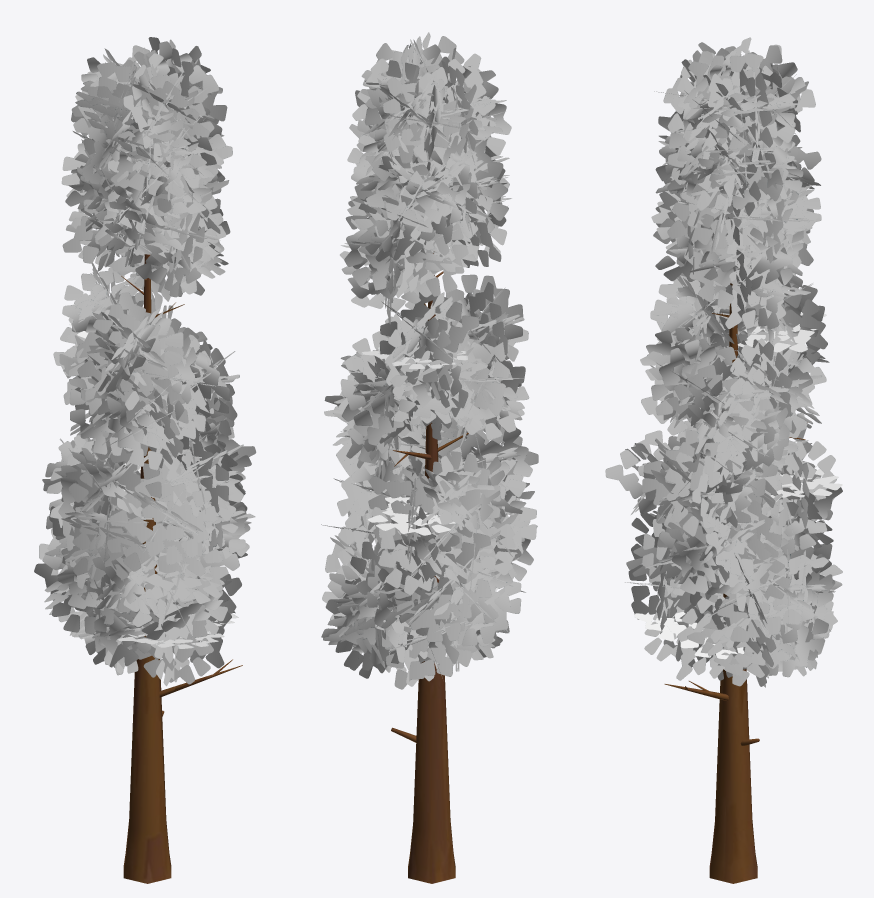
File: STColumnar2.glb
3 views of the same model, side by side, from view 1: azimuth 30°, elevation 25°; view 2: azimuth 150°, elevation 25°; view 3: azimuth 270°, elevation 25° (orthographic).
Visible parts, largest first — view 1: VertTree2Leaves; view 2: VertTree2Leaves; view 3: VertTree2Leaves.
Boxes of the visible parts, left/top/right/bottom form: VertTree2Leaves: left=34, top=37, right=256, bottom=883; VertTree2Leaves: left=321, top=32, right=538, bottom=883; VertTree2Leaves: left=605, top=37, right=842, bottom=883.
Bounding box in the file's own units: 4.01 × 14.29 × 4.14.
Materials: 2 (2 with a texture image).
